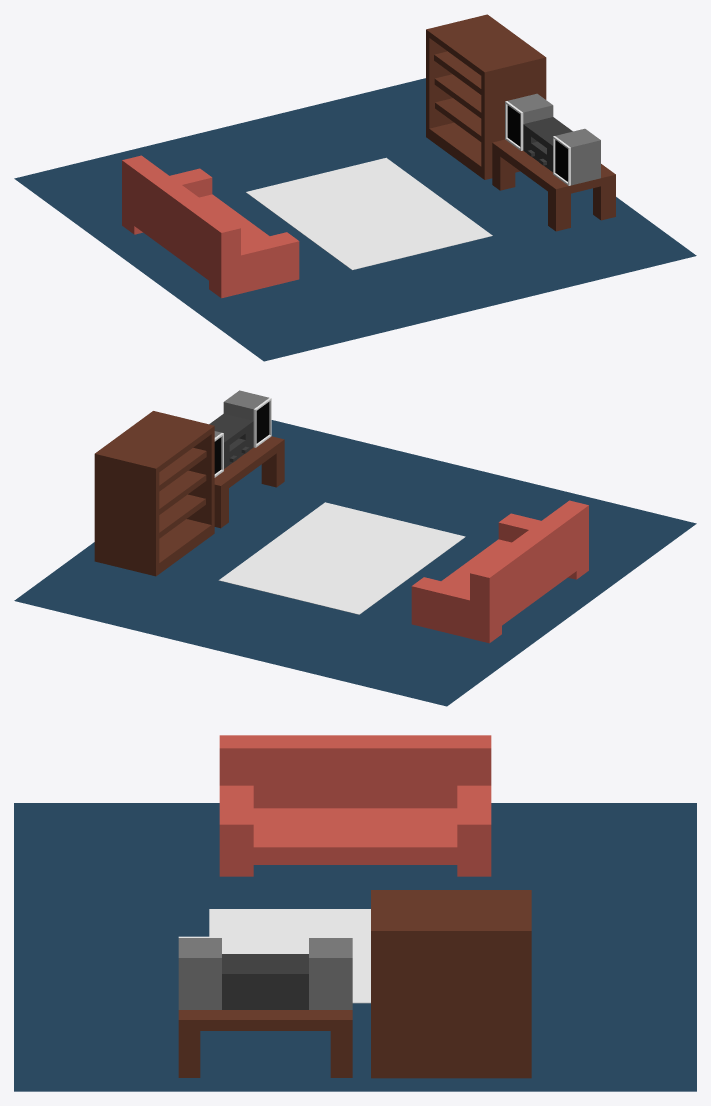
File: room.gltf
3 views of the same model, one above another, from view 1: azimuth 30°, elevation 25°; view 2: azimuth 150°, elevation 25°; view 3: azimuth 270°, elevation 25° (orthographic). The views are drawn at different scales.
Parts seen in each view (by area): view 1: floor, carpet, sofa, shelf, jukebox; view 2: floor, shelf, carpet, sofa, jukebox; view 3: floor, sofa, shelf, jukebox, carpet.
Part boxes in pixels (x1,y1,x2,y2): floor: (14, 78, 696, 361); carpet: (246, 157, 492, 270); sofa: (122, 155, 299, 298); shelf: (426, 14, 546, 179); jukebox: (492, 93, 615, 231); floor: (14, 420, 696, 706); shelf: (94, 411, 214, 576); carpet: (218, 502, 465, 614); sofa: (411, 500, 588, 643); jukebox: (209, 390, 284, 528); floor: (14, 803, 696, 1091); sofa: (219, 735, 491, 876); shelf: (371, 890, 531, 1078); jukebox: (178, 936, 352, 1077); carpet: (209, 909, 370, 1003).
Bounding box in the file's own units: 20 × 4.78 × 20.
